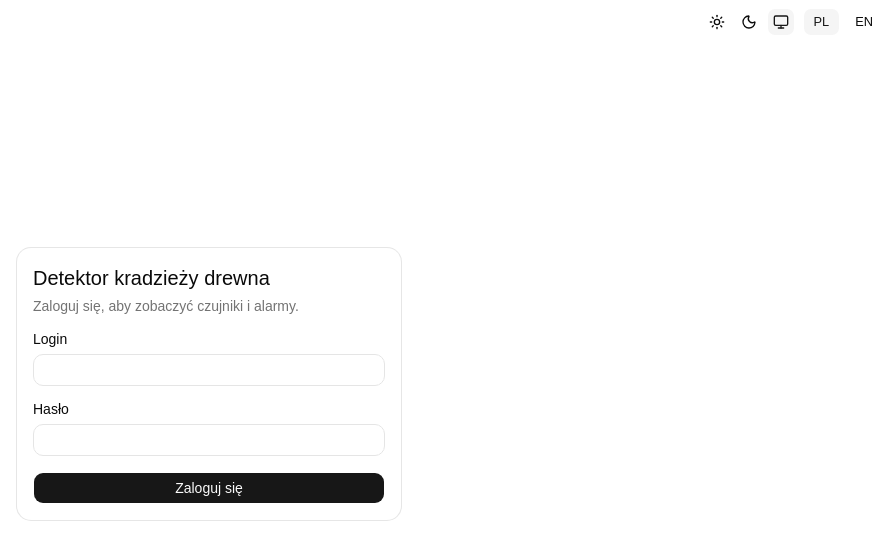
login › shows an error for a wrong password
Type "blazej" into the field labelled "Login" at (209, 370), box x1=33 y1=354 x2=385 y2=386
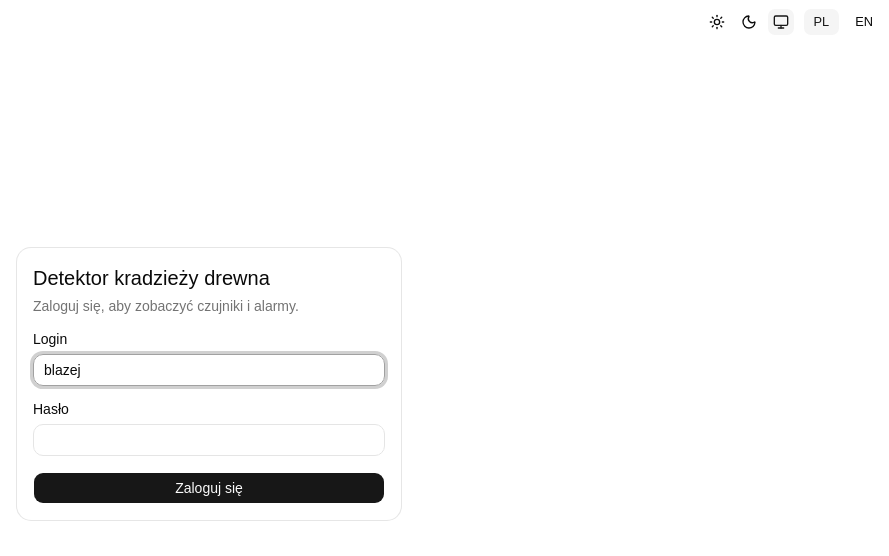
Type "zle" into the password field labelled "Hasło" at (209, 440), box x1=33 y1=424 x2=385 y2=456
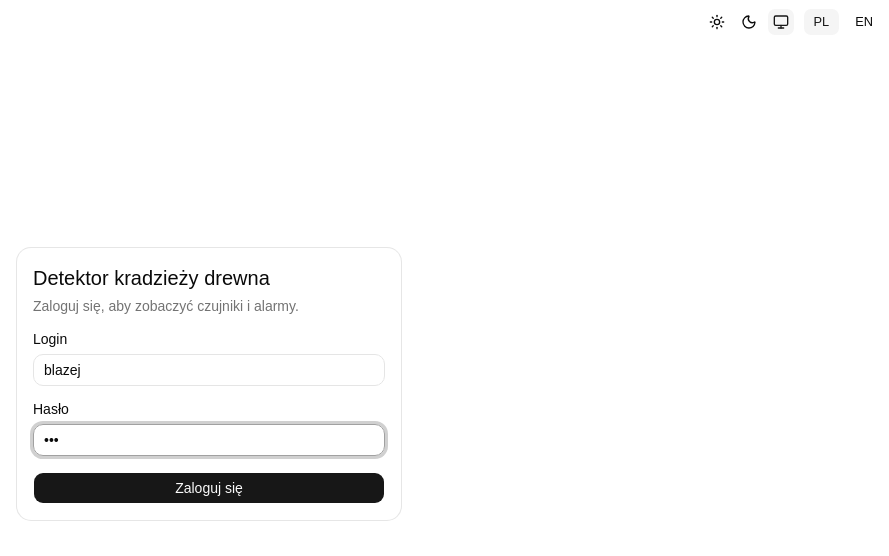
Click the button "Zaloguj się" at (209, 488), box x1=33 y1=472 x2=385 y2=504
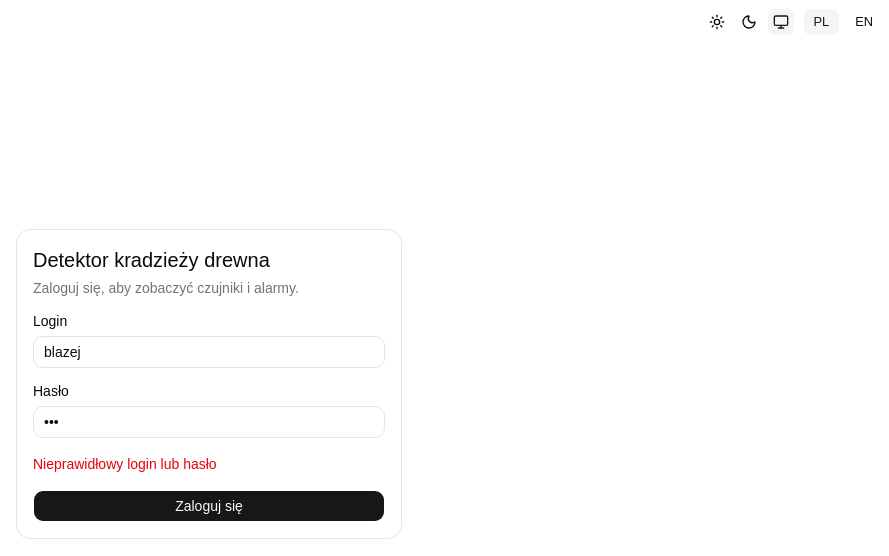
Result: the message reads "Nieprawidłowy login lub hasło" at x1=33 y1=456 x2=217 y2=472
